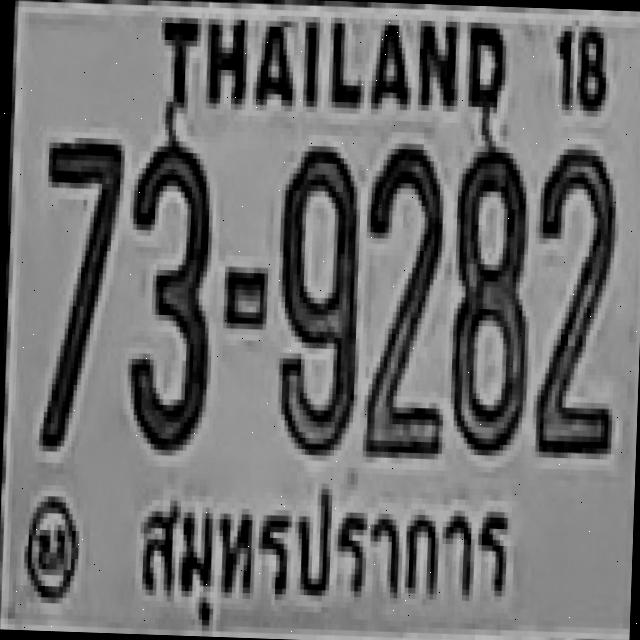2: (530, 145, 620, 457), (361, 140, 446, 450), (528, 142, 618, 432), (358, 142, 447, 425)
3: (122, 134, 215, 450)
7: (34, 134, 124, 450), (40, 133, 123, 350)
8: (445, 140, 531, 450)
9: (272, 139, 362, 456)
SamutPrakan: (120, 484, 521, 640)
